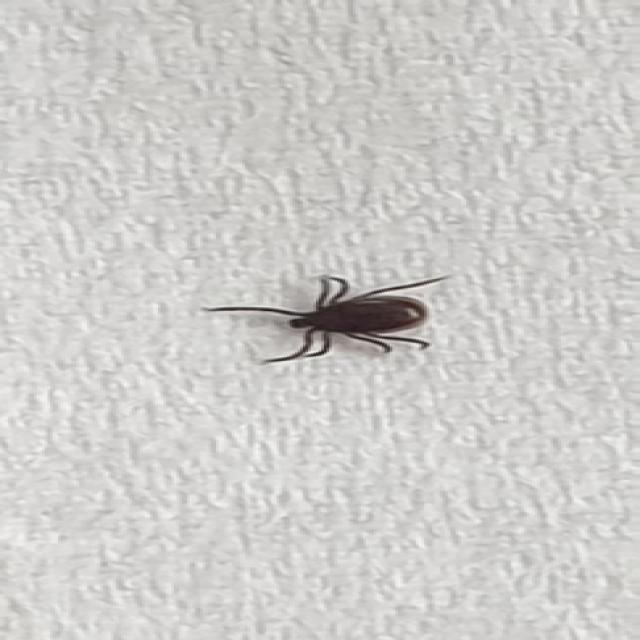Ixodes Ricinus-M: (203, 279, 445, 366)
